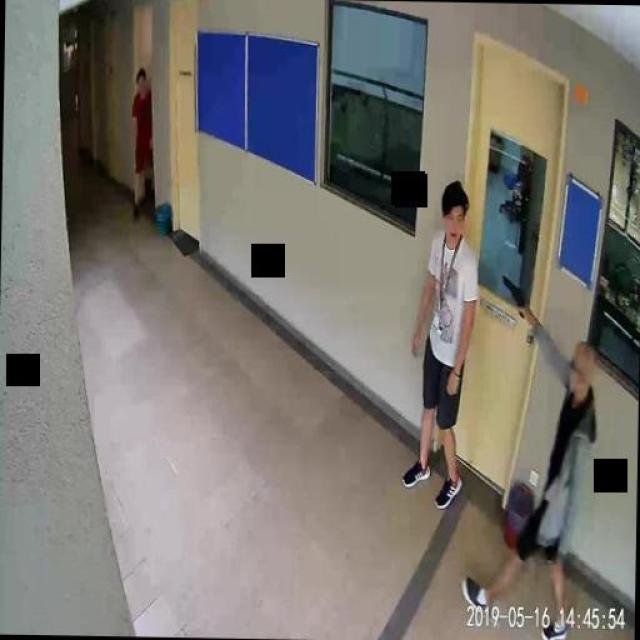gun: (502, 275, 526, 317)
